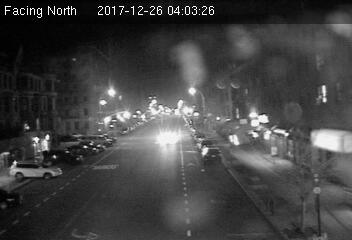car: (200, 146, 223, 161)
